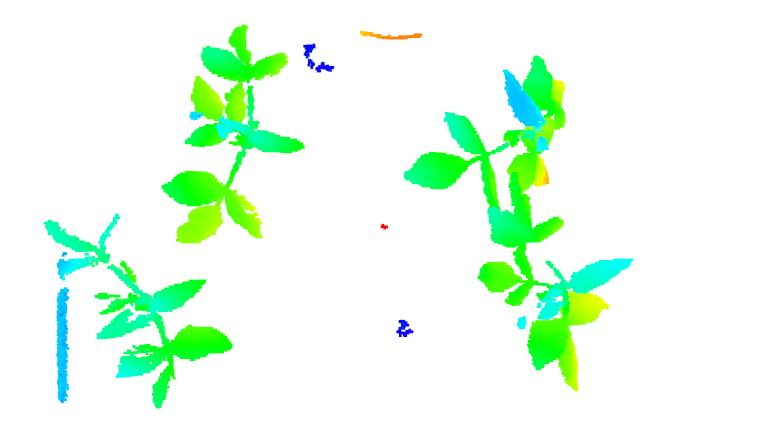mungbean: (39, 216, 238, 406), (160, 21, 305, 250), (479, 208, 639, 397), (407, 56, 574, 217)
